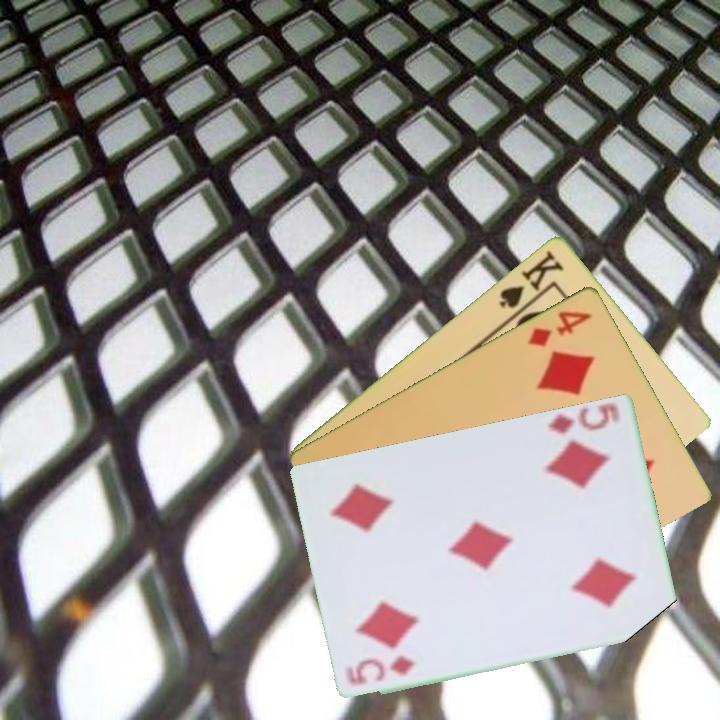4d: (524, 306, 595, 349)
5d: (544, 399, 624, 436), (345, 654, 418, 689)
Ks: (496, 246, 567, 310)
